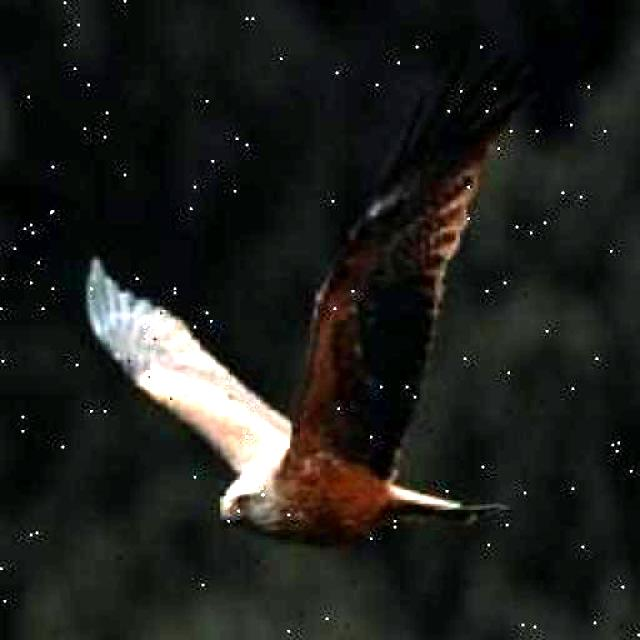airplane: (59, 29, 595, 569)
